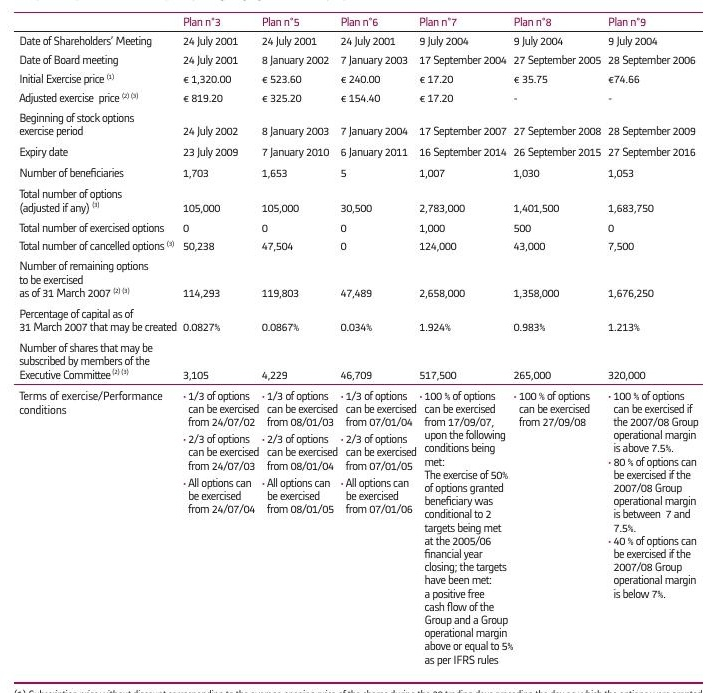table: (0, 0, 716, 693)
